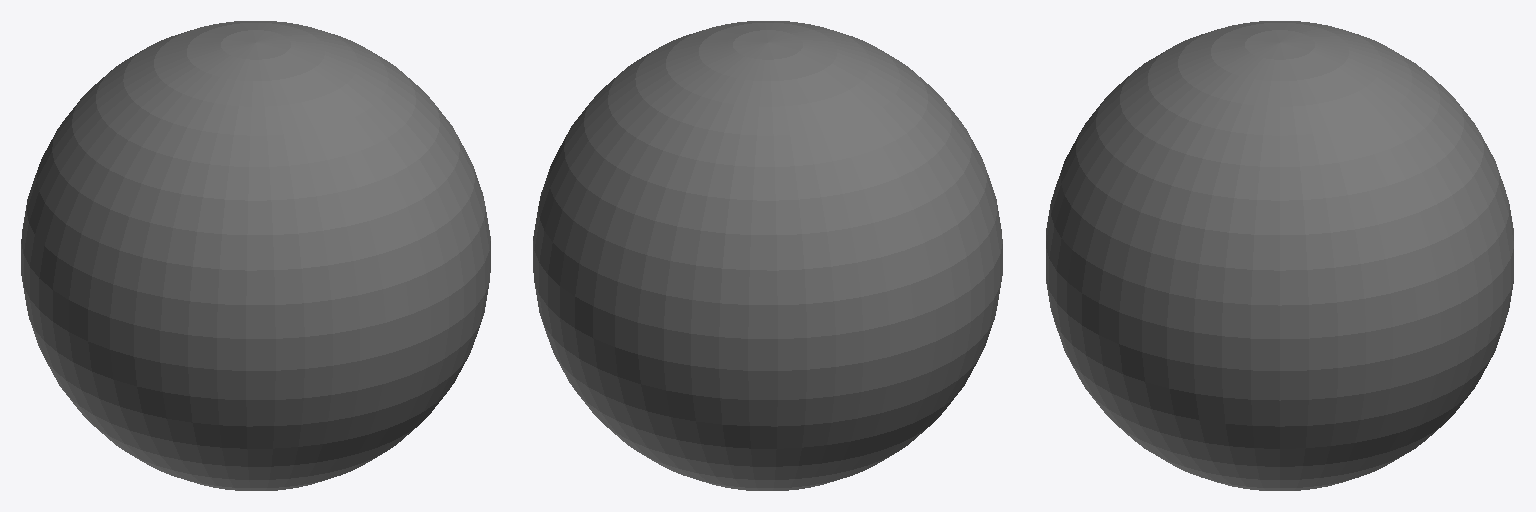
File: skybox.obj
3 renders of one model, left to right at view 1: azimuth 30°, elevation 25°; view 2: azimuth 150°, elevation 25°; view 3: azimuth 270°, elevation 25°, orthographic.
Parts seen in each view (by area): view 1: PanoSphere_Mesh; view 2: PanoSphere_Mesh; view 3: PanoSphere_Mesh.
Part boxes in pixels (left/top/right/bottom): PanoSphere_Mesh: left=21, top=21, right=490, bottom=490; PanoSphere_Mesh: left=533, top=21, right=1002, bottom=490; PanoSphere_Mesh: left=1046, top=21, right=1513, bottom=490.
Bounding box in the file's own units: 9.97 × 10 × 9.95.